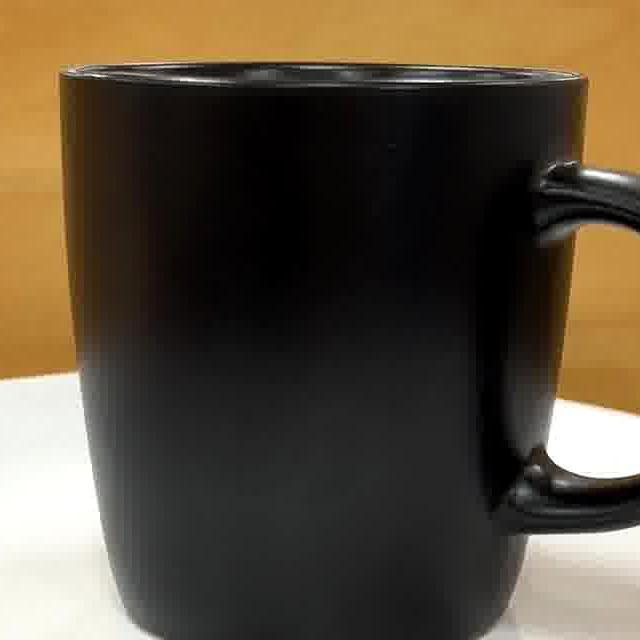cup: (66, 63, 640, 640)
